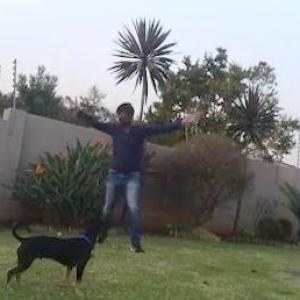takeoff: (64, 100, 199, 240)
